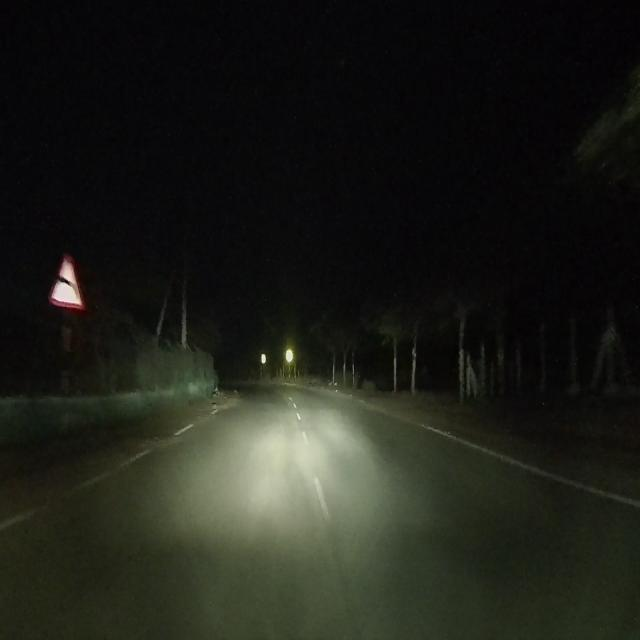left-hand-curve: (47, 248, 82, 303)
